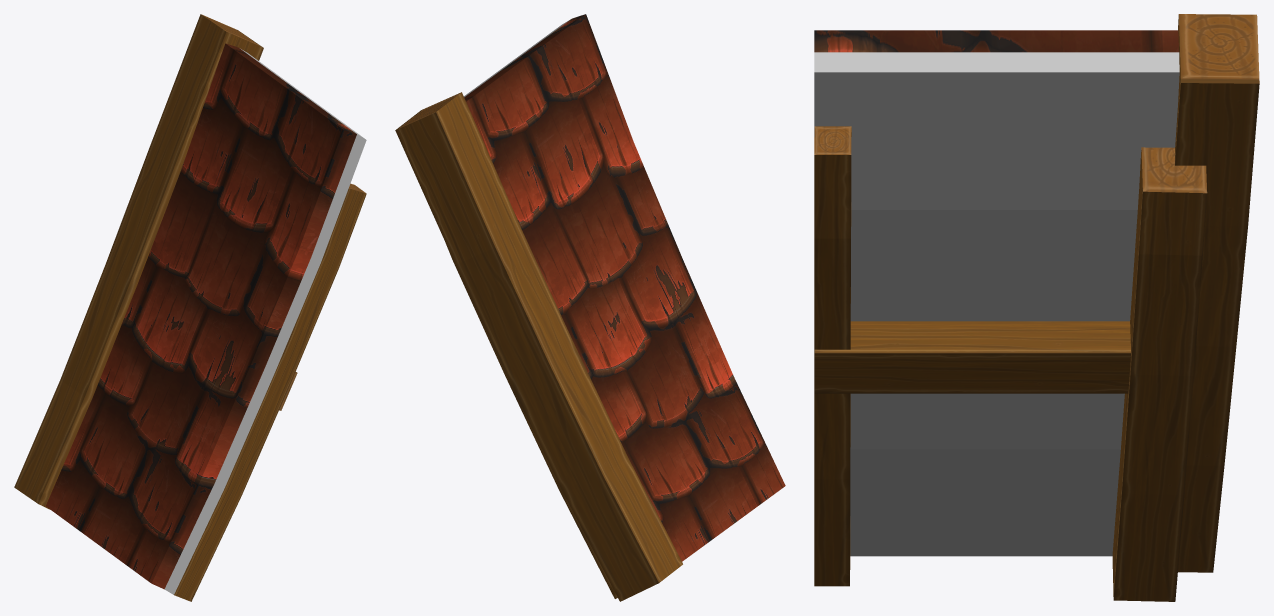
File: SM_House_Roof_01_End_TopExtended.fbx
3 renders of one model, left to right at view 1: azimuth 30°, elevation 25°; view 2: azimuth 150°, elevation 25°; view 3: azimuth 270°, elevation 25°, orthographic. The views are drawn at different scales.
Visible parts, largest first — view 1: SM_House_Roof_01_End_TopExtended; view 2: SM_House_Roof_01_End_TopExtended; view 3: SM_House_Roof_01_End_TopExtended.
Boxes of the visible parts, <box> form: SM_House_Roof_01_End_TopExtended: <box>14,14,366,601</box>; SM_House_Roof_01_End_TopExtended: <box>395,14,785,601</box>; SM_House_Roof_01_End_TopExtended: <box>814,14,1259,601</box>.
Size of the model in its own units: 1.76 by 3.19 by 1.84.
